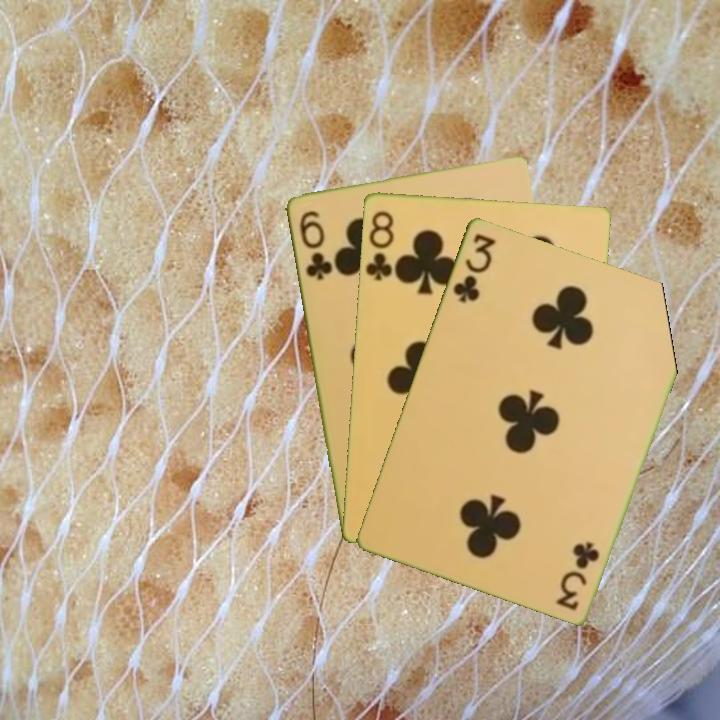3c: (449, 229, 498, 306), (555, 537, 602, 613)
6c: (295, 206, 333, 283)
8c: (362, 207, 398, 284)
